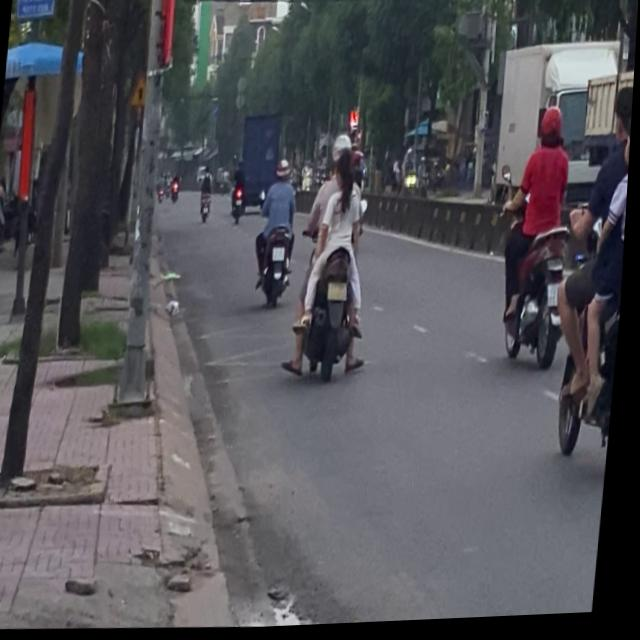helmet: (538, 108, 567, 152), (334, 134, 356, 158)
licenseplate: (556, 93, 635, 489), (289, 129, 386, 386), (497, 104, 588, 375)
motorcyclist: (612, 87, 635, 158), (334, 147, 360, 192), (623, 116, 634, 176)
nohelmet: (330, 282, 350, 303)
